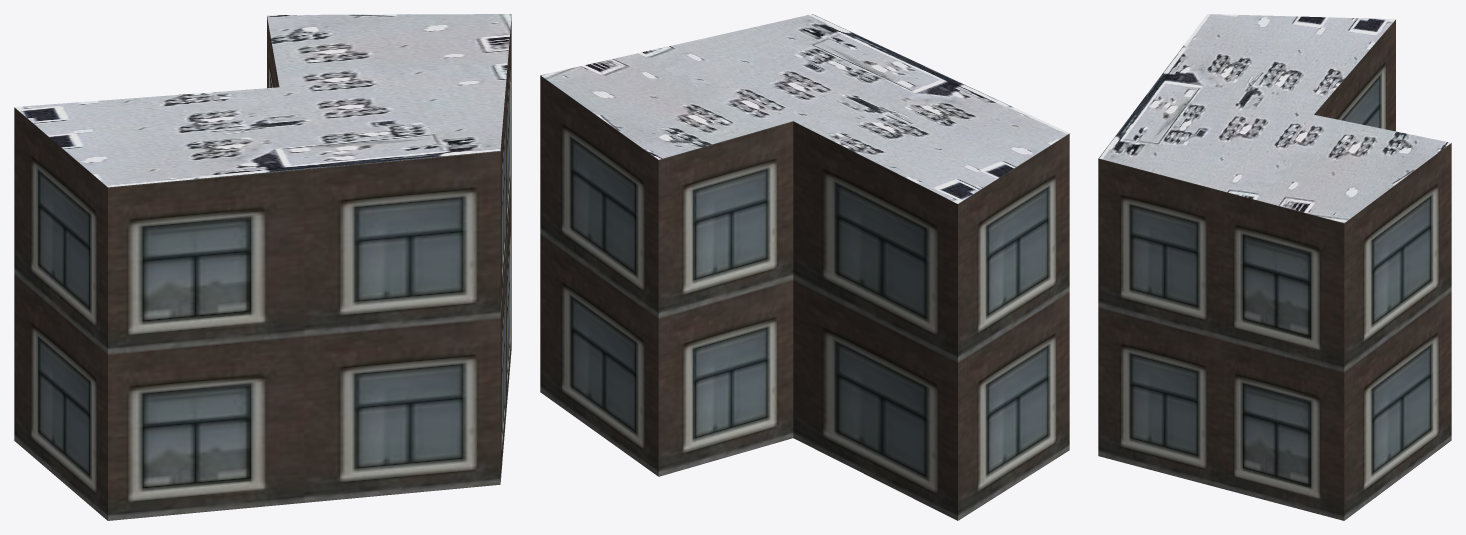
Rendered from ResTex__4668.fbx.
3 renders of one model, left to right at view 1: azimuth 30°, elevation 25°; view 2: azimuth 150°, elevation 25°; view 3: azimuth 270°, elevation 25°, orthographic. The views are drawn at different scales.
Parts seen in each view (by area): view 1: CityEngineMaterial_16_m, CityEngineMaterial_15_m; view 2: CityEngineMaterial_16_m, CityEngineMaterial_15_m; view 3: CityEngineMaterial_16_m, CityEngineMaterial_15_m.
Boxes of the visible parts, x1,y1,x2,y2 form: CityEngineMaterial_16_m: (14, 17, 511, 520); CityEngineMaterial_15_m: (14, 14, 511, 187); CityEngineMaterial_16_m: (540, 75, 1069, 520); CityEngineMaterial_15_m: (540, 14, 1069, 203); CityEngineMaterial_16_m: (1098, 19, 1451, 520); CityEngineMaterial_15_m: (1098, 14, 1451, 222).
Size of the model in its own units: 9.04 by 6 by 6.45.
2 materials, 2 textured.
